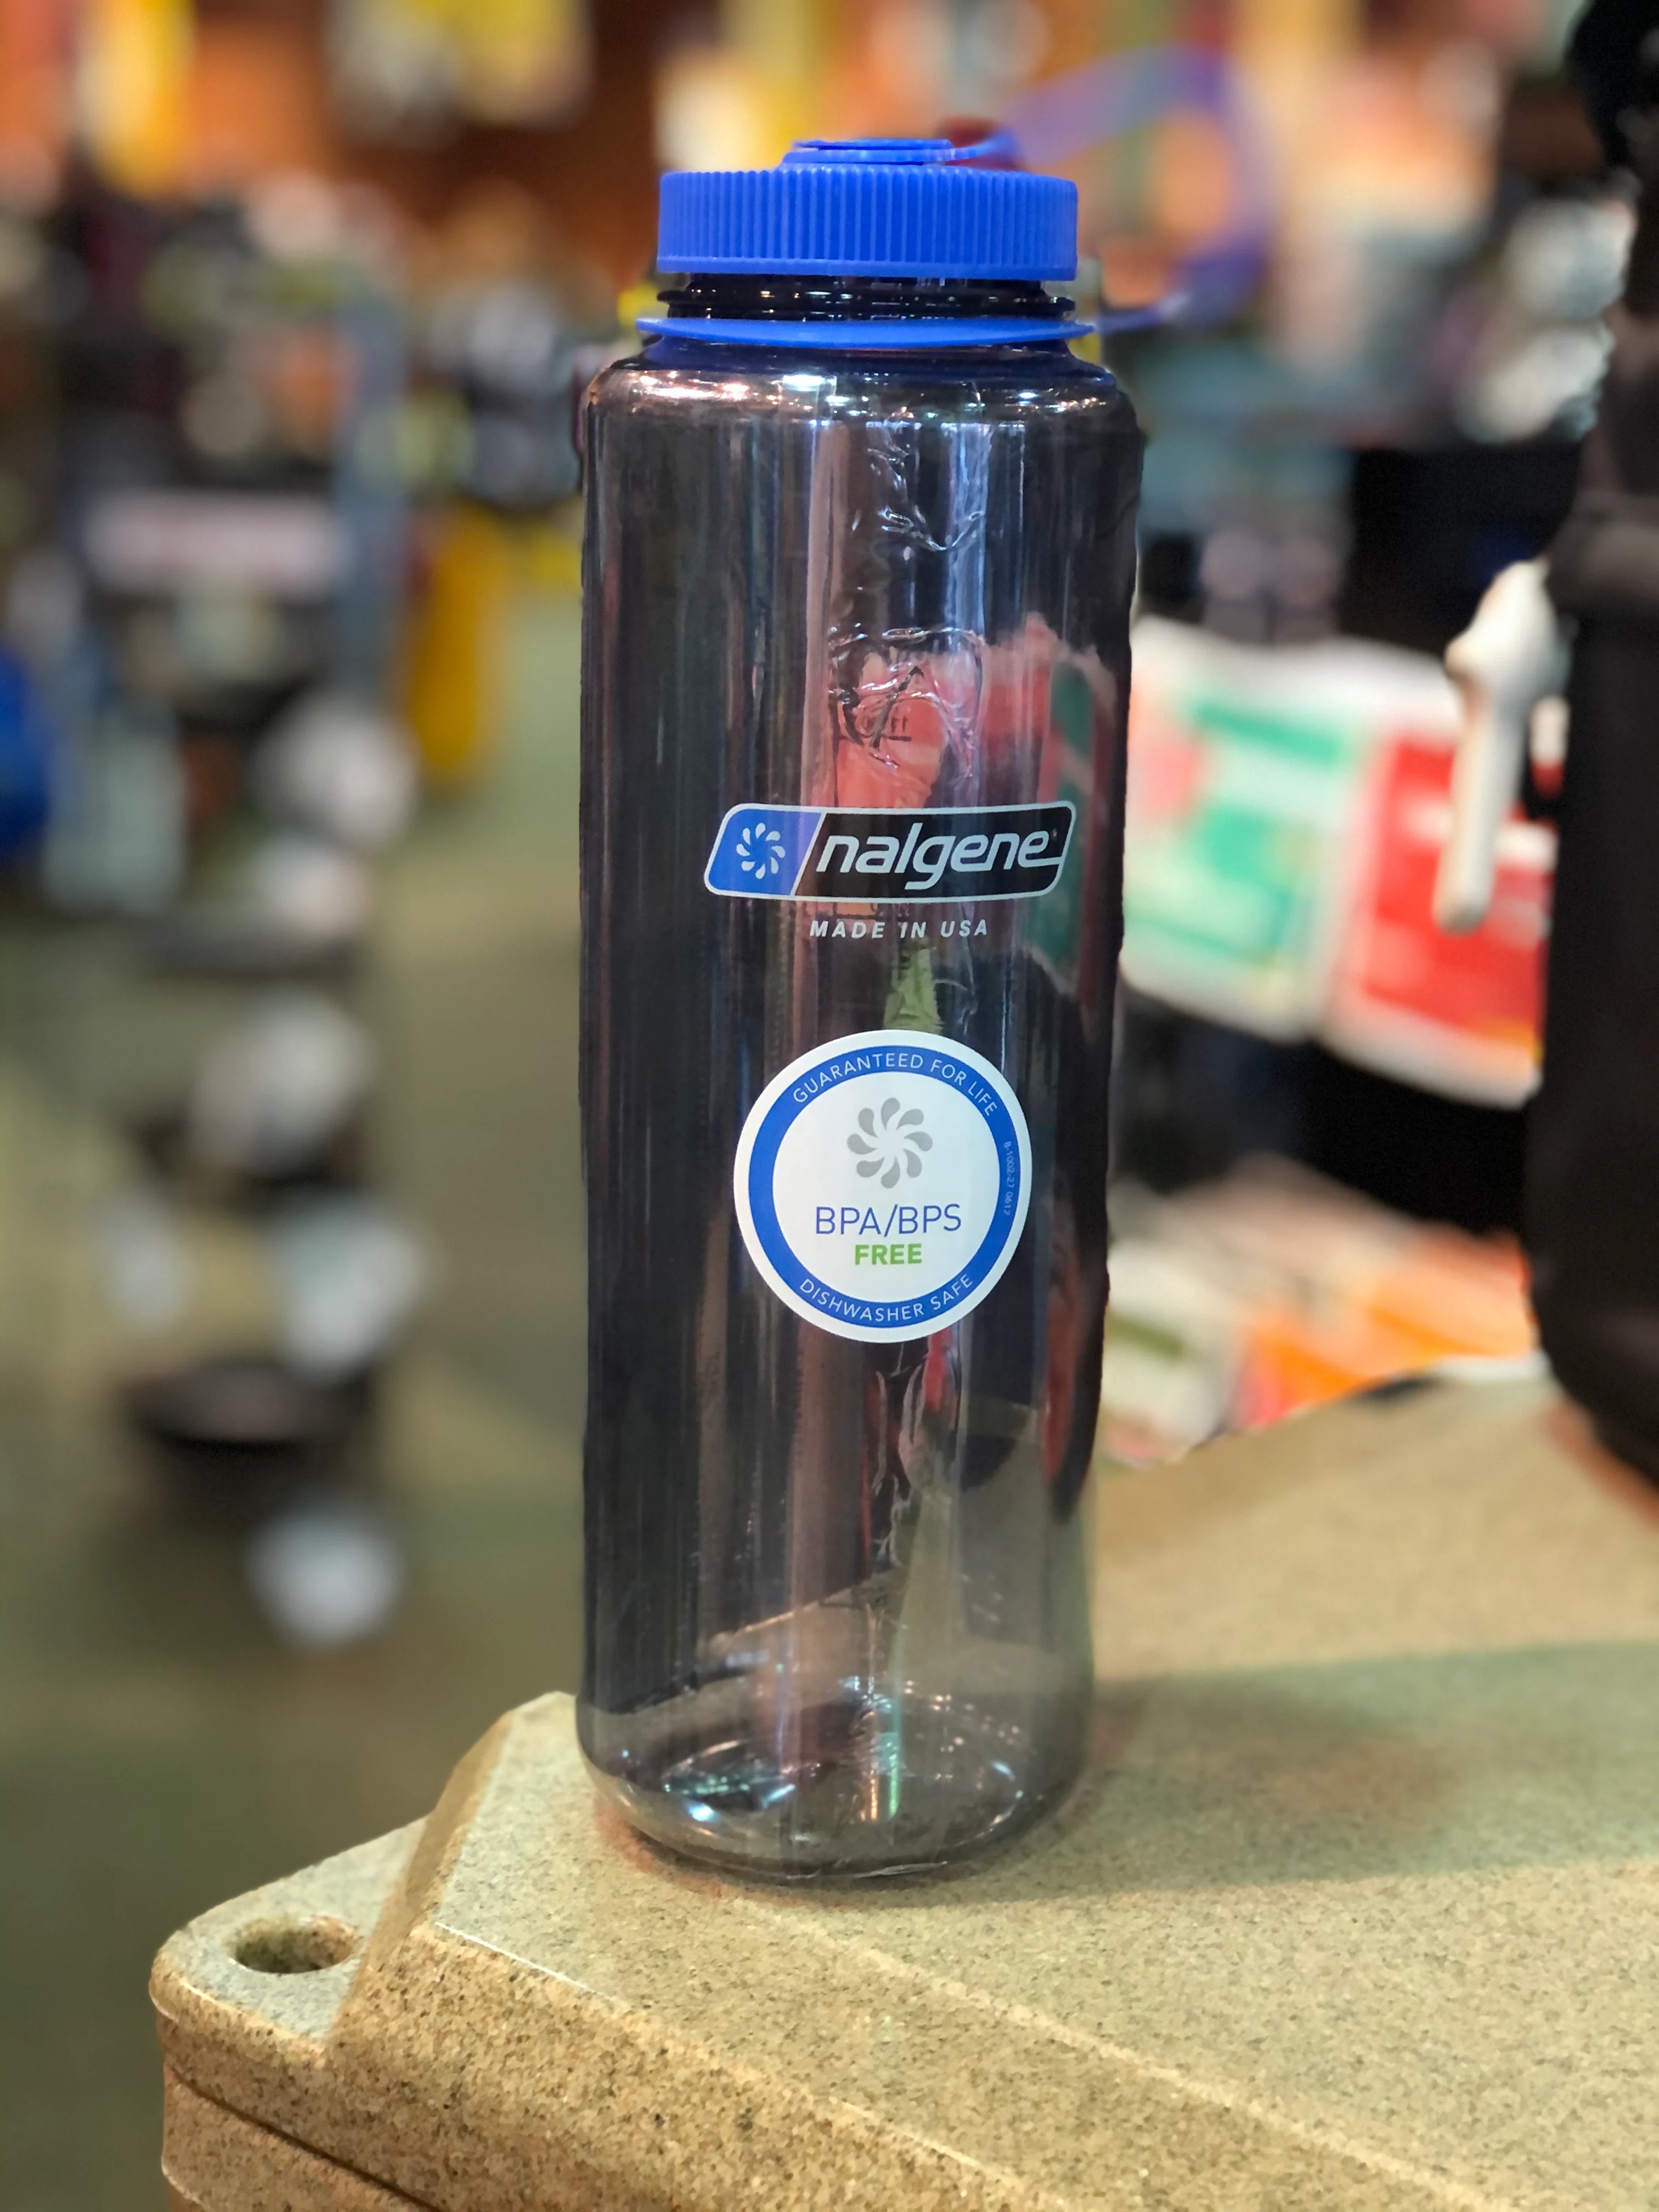bottle: (573, 139, 1147, 1886)
